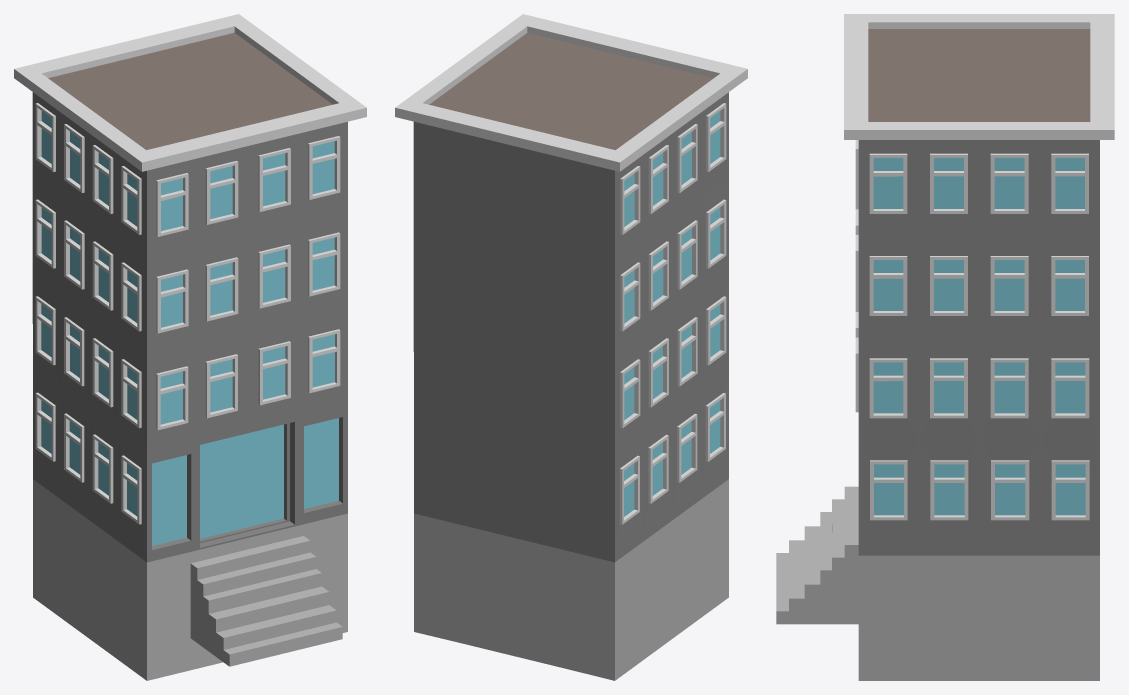
3 renders of one model, left to right at view 1: azimuth 30°, elevation 25°; view 2: azimuth 150°, elevation 25°; view 3: azimuth 270°, elevation 25°, orthographic. The views are drawn at different scales.
Visible parts, largest first — view 1: pCube37; view 2: pCube37; view 3: pCube37.
Part boxes in pixels (bbox=[...]): pCube37: bbox=[14, 14, 366, 680]; pCube37: bbox=[395, 14, 747, 680]; pCube37: bbox=[776, 14, 1114, 680].
Size of the model in its own units: 636 by 1422 by 783.
